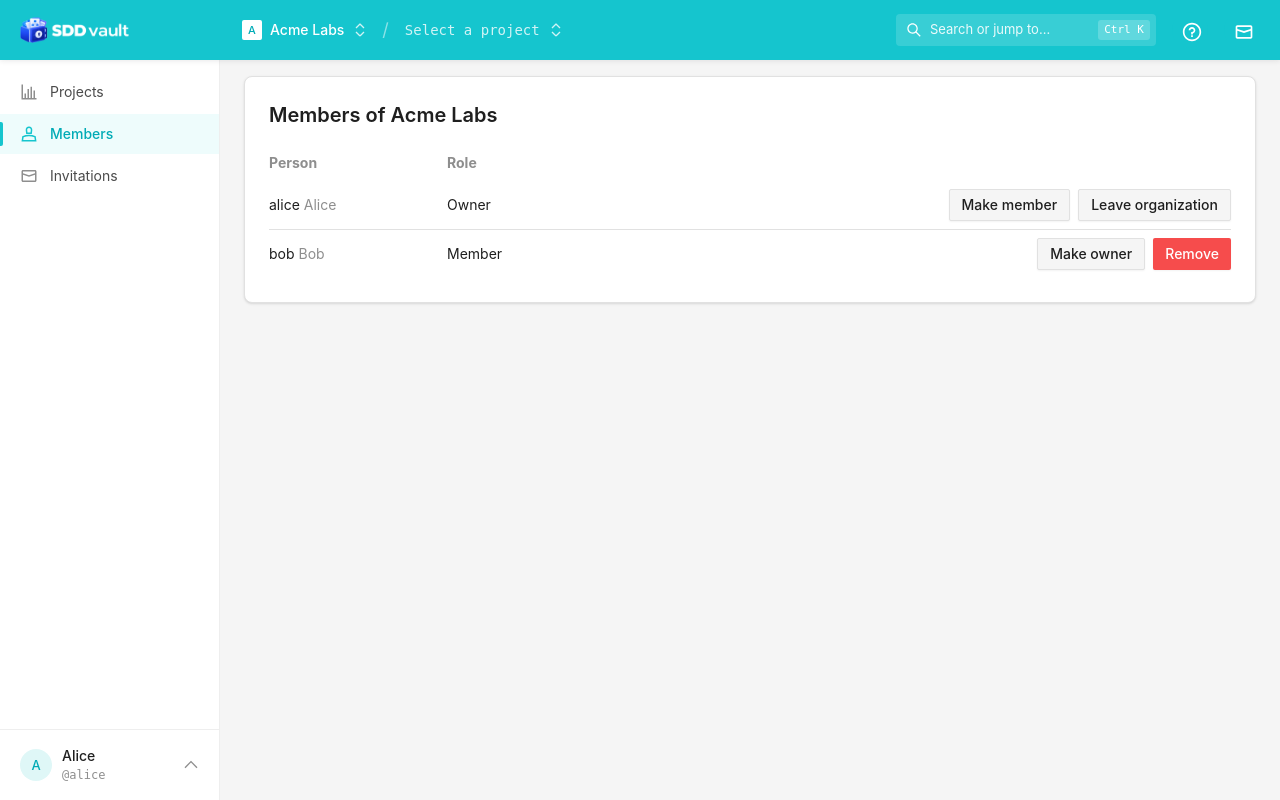
Test case: owners change member roles and remove members
Click the button "Make owner": (1091, 254) [1037,238,1145,270]
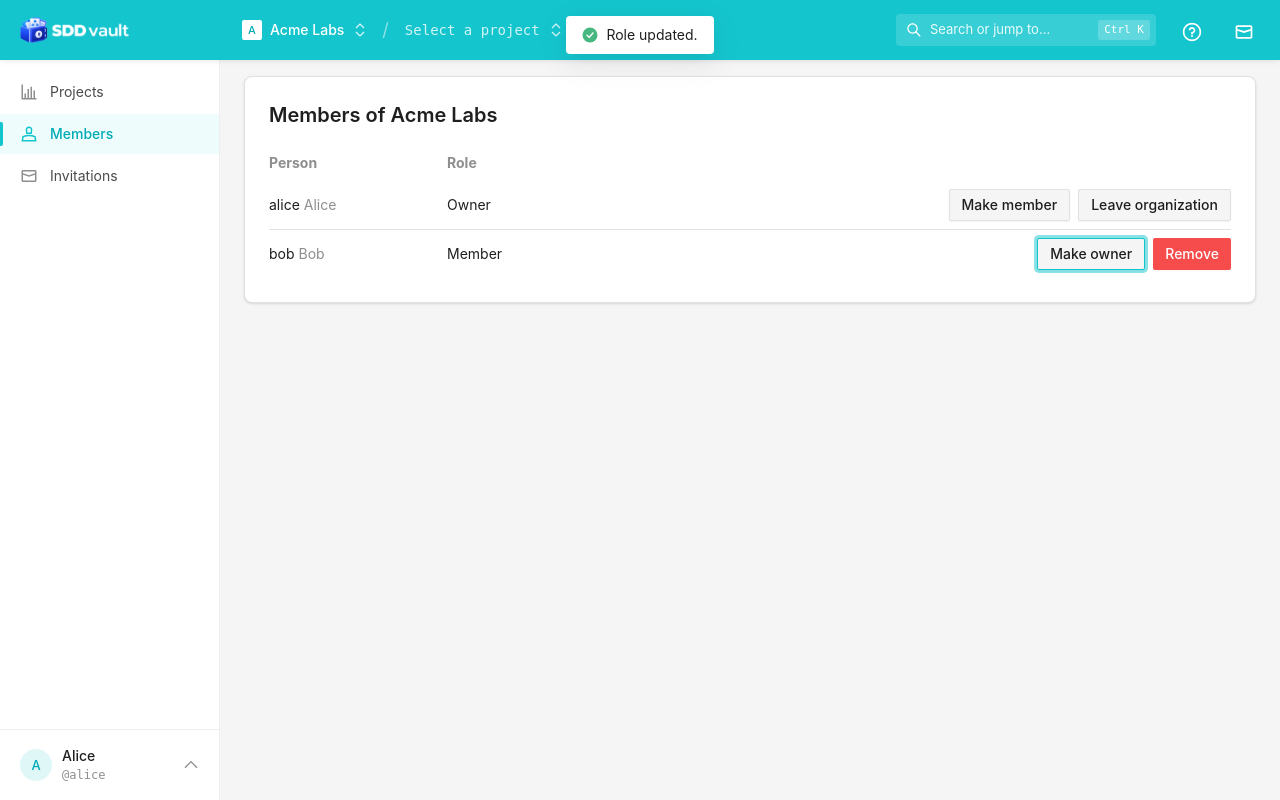
Expected: the text "Role updated." is shown, [566,16,714,54]
Click the button "Remove": (1192, 254) [1153,238,1231,270]
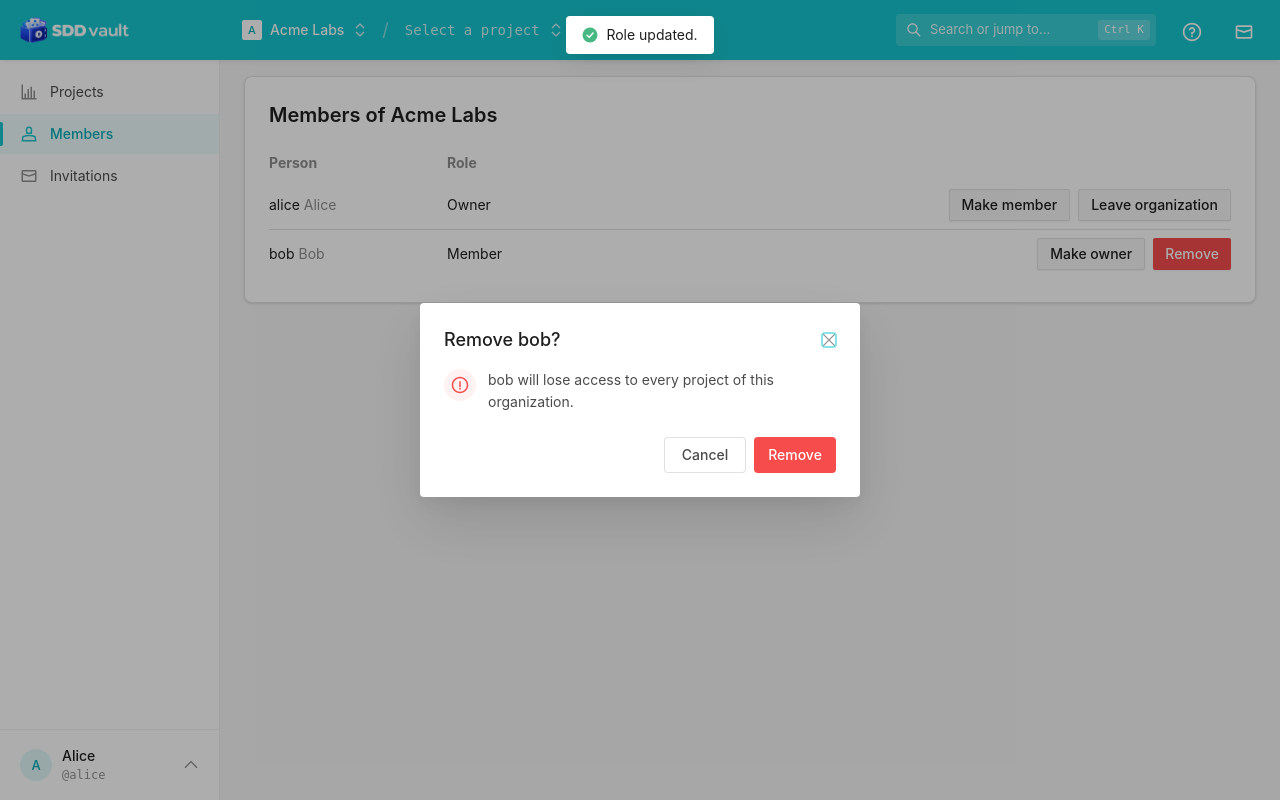
Expected: the dialog "Remove bob?" is shown, [420,303,860,497]
Click the button "Remove": (795, 455) [754,437,836,473]
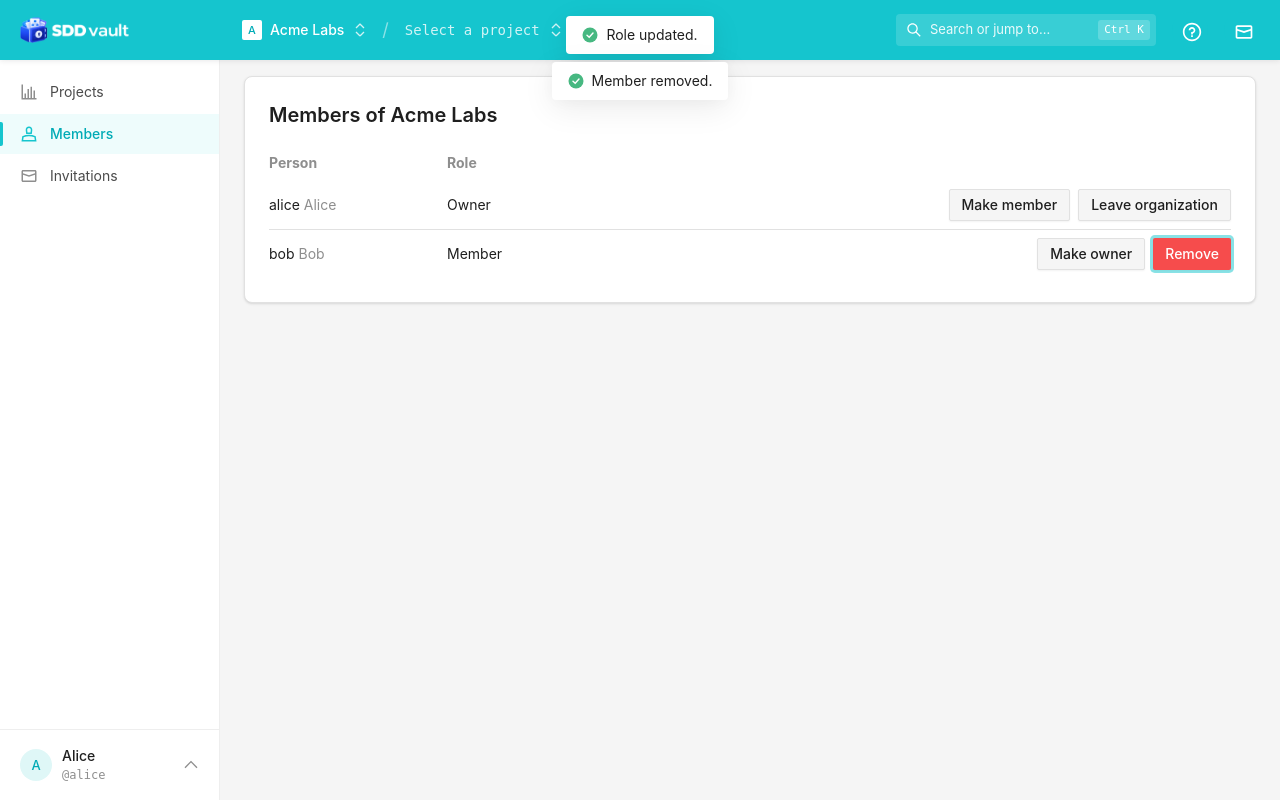
Expected: the text "Member removed." is shown, [552,62,728,100]
